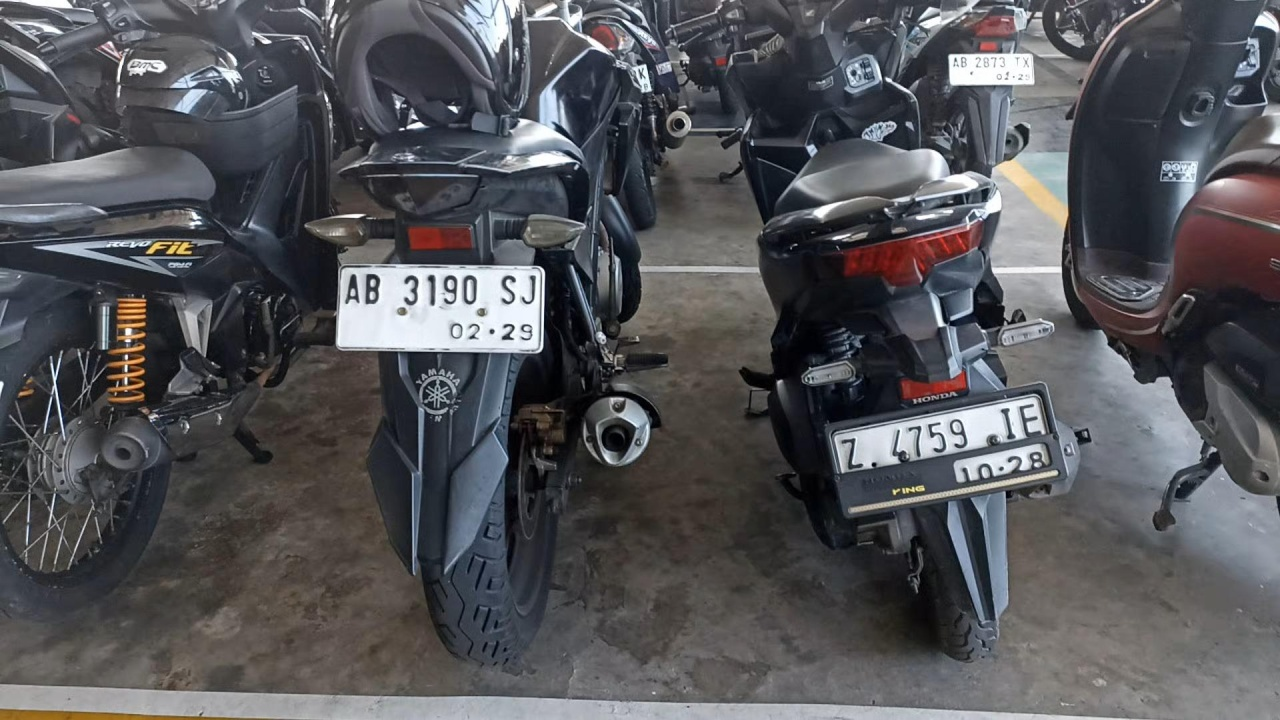plate: (827, 386, 1064, 516), (338, 267, 541, 351), (949, 54, 1035, 85)
